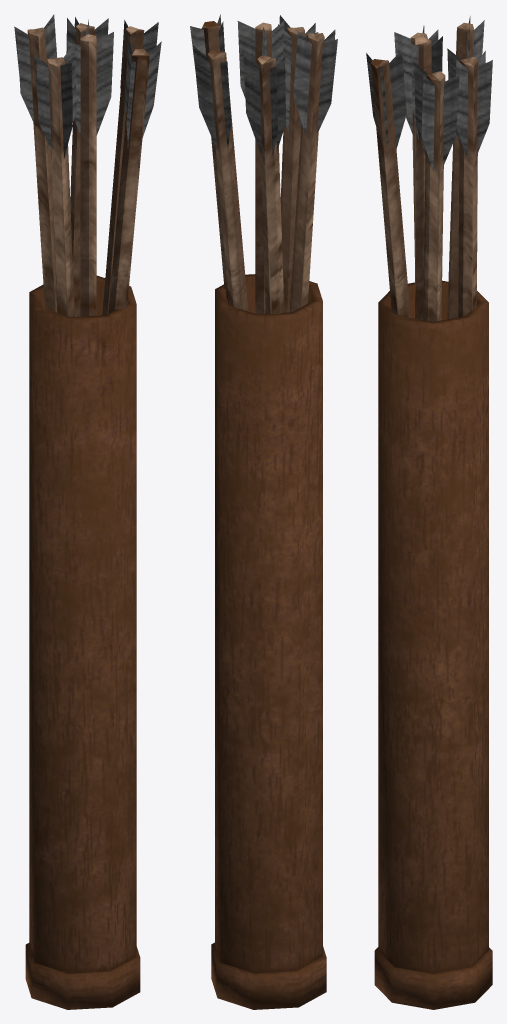
Rendered from ArrowQuiver.fbx.
3 views of the same model, side by side, from view 1: azimuth 30°, elevation 25°; view 2: azimuth 210°, elevation 25°; view 3: azimuth 270°, elevation 25° (orthographic).
Visible parts, largest first — view 1: ArrowQuiver; view 2: ArrowQuiver; view 3: ArrowQuiver.
Boxes of the visible parts, x1,y1,x2,y2 form: ArrowQuiver: (14,14,161,1009); ArrowQuiver: (190,14,337,1009); ArrowQuiver: (366,16,492,1009).
Size of the model in its own units: 0.0887 by 0.6674 by 0.0803.
